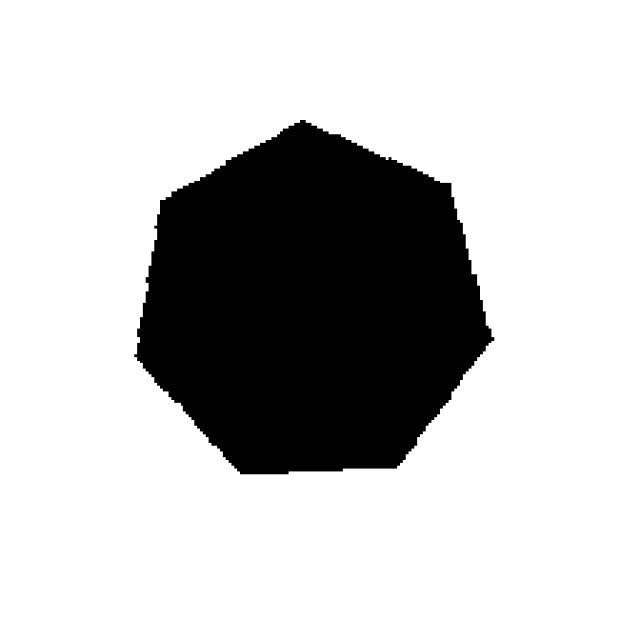Heptagon: (94, 100, 507, 506)
